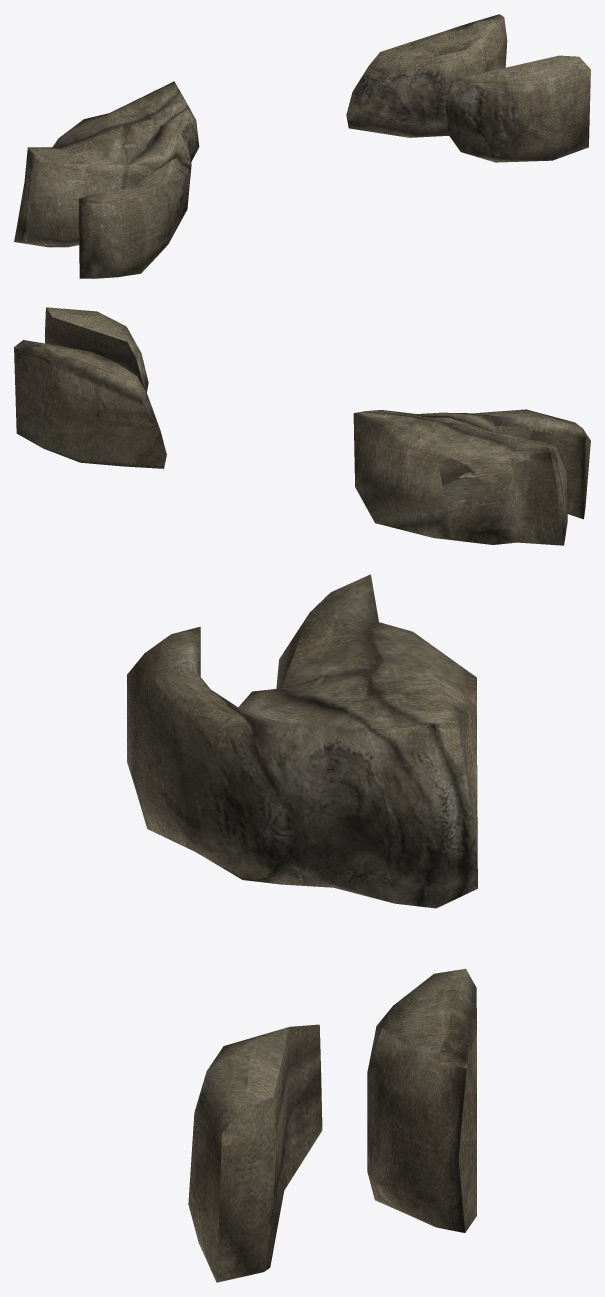
Rendered from military_sandbag_group_expld_shortsection.glb.
3 renders of one model, top to bottom at view 1: azimuth 30°, elevation 25°; view 2: azimuth 150°, elevation 25°; view 3: azimuth 270°, elevation 25°, orthographic. The views are drawn at different scales.
Bounding box in the file's own units: 92.95 × 18.69 × 26.16.
Materials: 1 (1 with a texture image).
